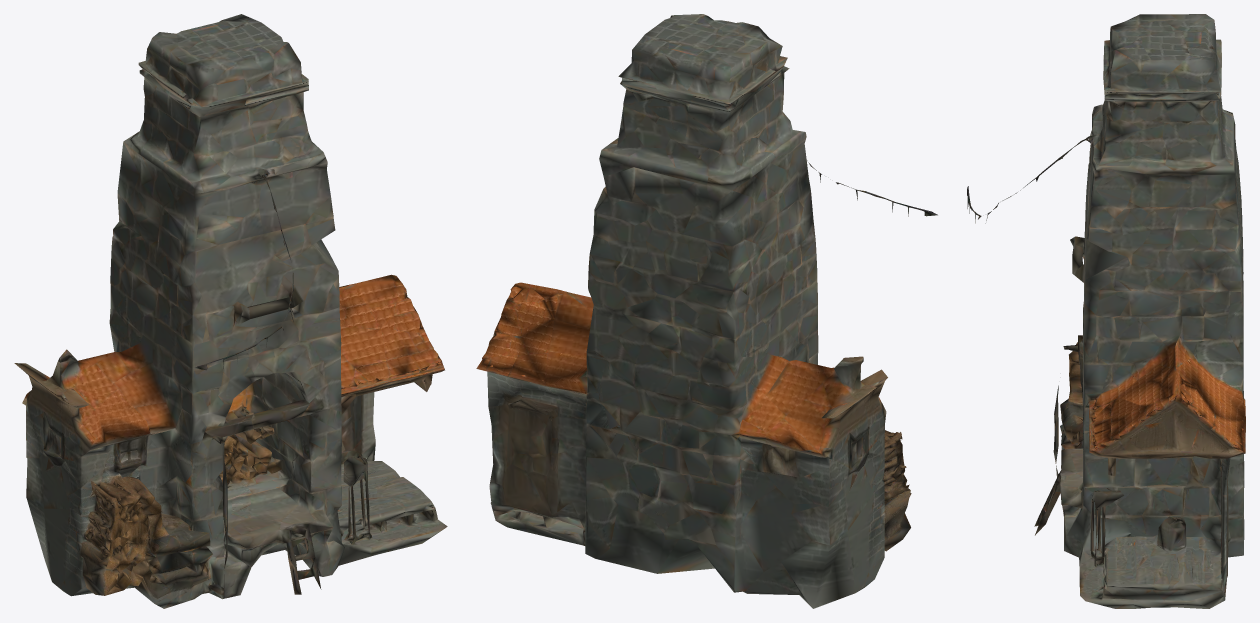
Rendered from erzschmelze.glb.
3 renders of one model, left to right at view 1: azimuth 30°, elevation 25°; view 2: azimuth 150°, elevation 25°; view 3: azimuth 270°, elevation 25°, orthographic. The views are drawn at different scales.
Size of the model in its own units: 1.38 by 1.9 by 0.9838.
Materials: 1 (1 with a texture image).
